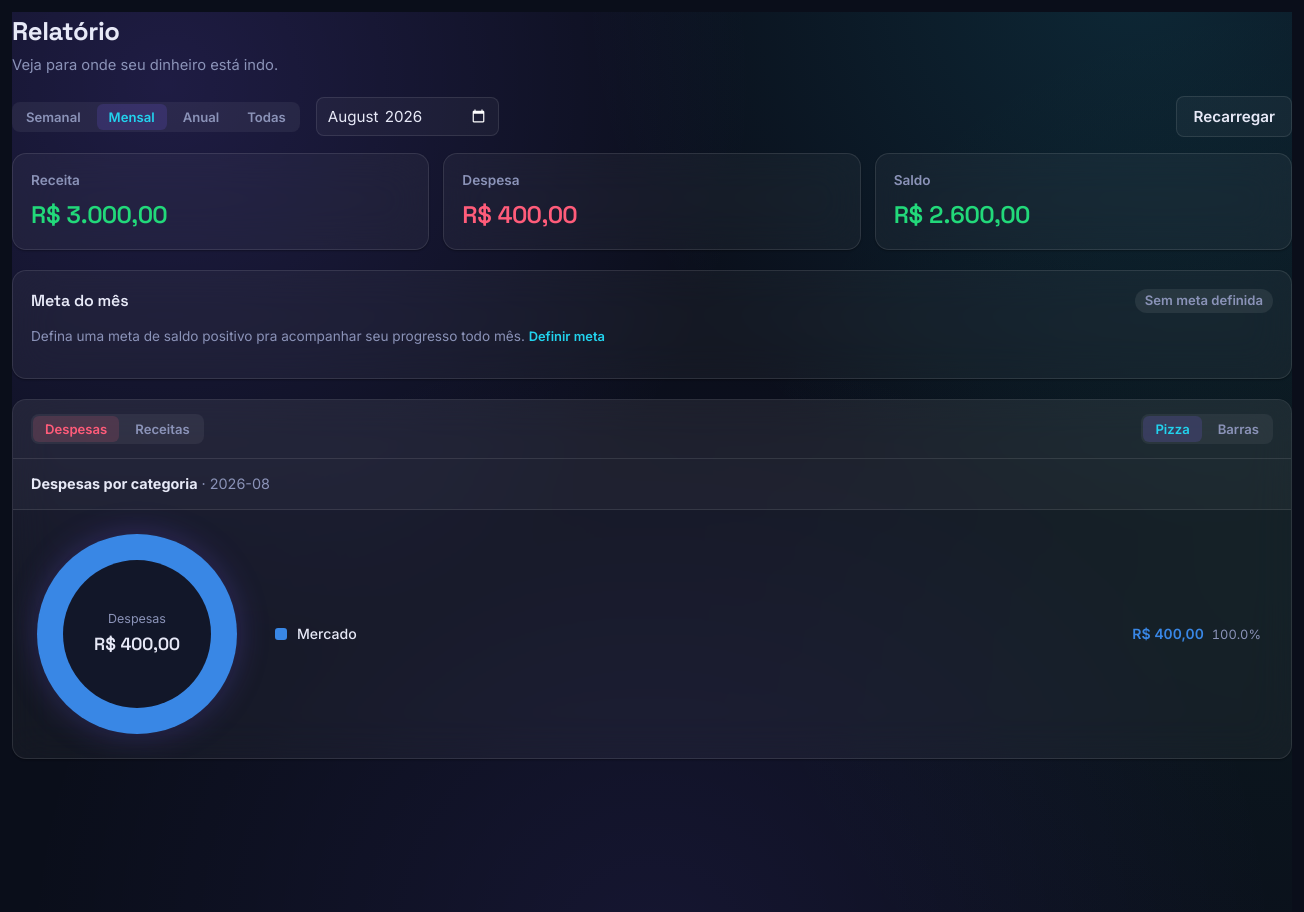
Test: Relatorio › mostra as categorias de despesa por padrão e troca pra receita
Expected: the text "Mercado" is shown, [297, 626, 357, 642]
Expected: the text "Salário" is not shown
Click the button "Receitas": {"x": 162, "y": 429} [123, 416, 202, 442]
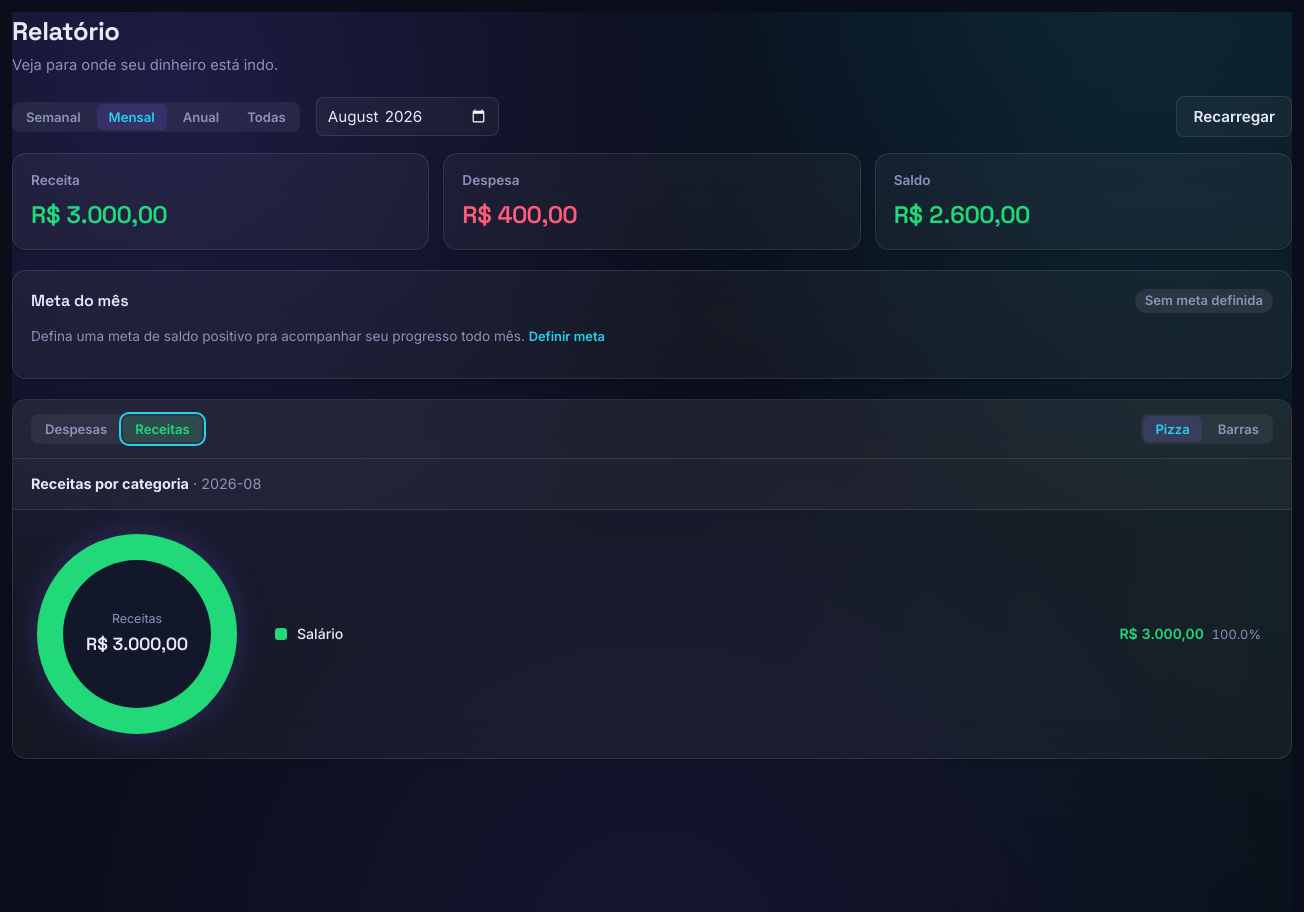
Expected: the text "Salário" is shown, [297, 626, 343, 642]
Expected: the text "Mercado" is gone
